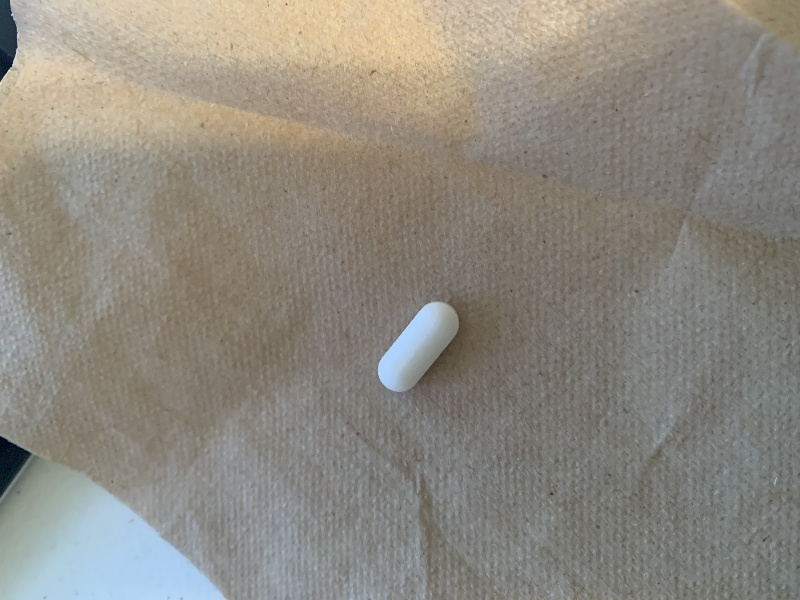Tylenol: (360, 292, 475, 405)
